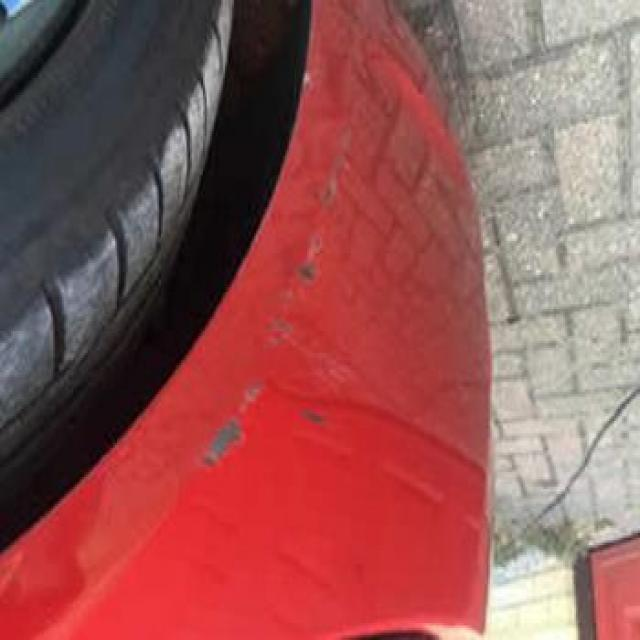scratch: (192, 73, 388, 489)
